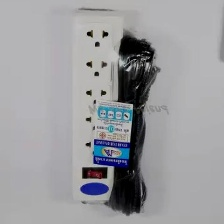three_eye_plug: (68, 7, 127, 209)
